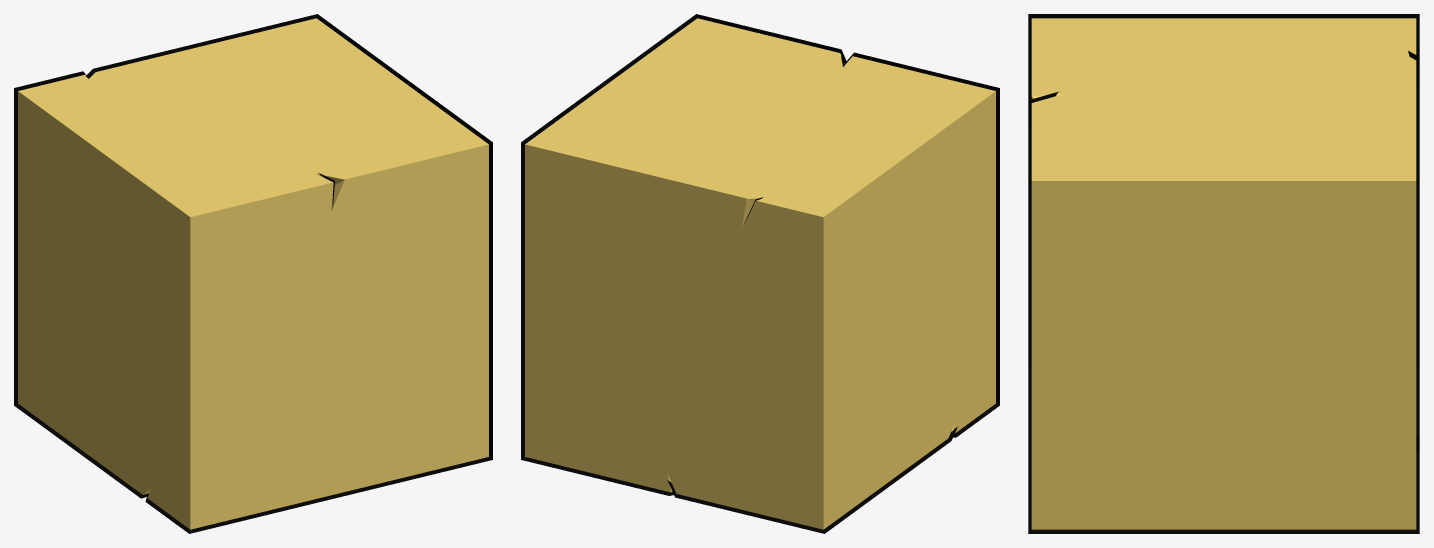
Rendered from Cubo Boing.fbx.
3 renders of one model, left to right at view 1: azimuth 30°, elevation 25°; view 2: azimuth 150°, elevation 25°; view 3: azimuth 270°, elevation 25°, orthographic. The views are drawn at different scales.
Parts seen in each view (by area): view 1: Cubo, LineArt; view 2: Cubo, LineArt; view 3: Cubo, LineArt.
Part boxes in pixels (<box>): Cubo: <box>18,18,488,529</box>; LineArt: <box>14,14,492,533</box>; Cubo: <box>525,18,995,529</box>; LineArt: <box>521,14,999,533</box>; Cubo: <box>1031,18,1416,529</box>; LineArt: <box>1028,14,1419,533</box>.
Size of the model in its own units: 1.02 by 1.02 by 1.02.
